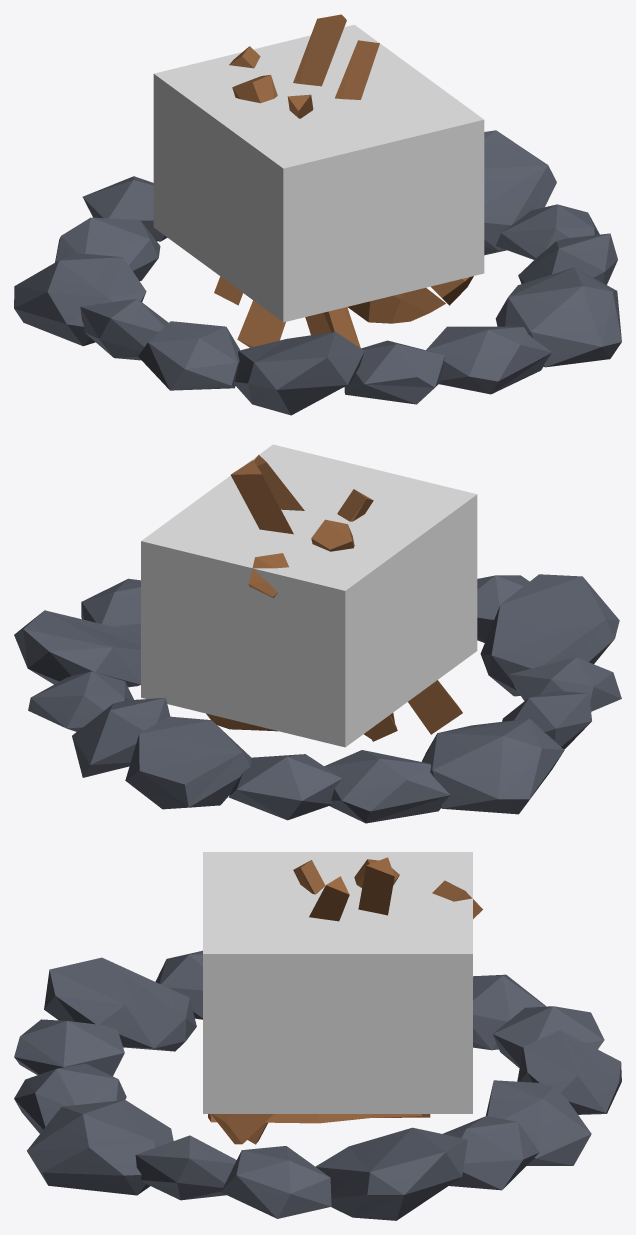
The model's file is bonfire.glb.
3 views of the same model, one above another, from view 1: azimuth 30°, elevation 25°; view 2: azimuth 150°, elevation 25°; view 3: azimuth 270°, elevation 25° (orthographic). The views are drawn at different scales.
Parts seen in each view (by area): view 1: Cube.009, Fire; view 2: Cube.009, Fire; view 3: Fire, Cube.009.
Boxes of the visible parts, x1,y1,x2,y2 form: Cube.009: (153, 24, 484, 322); Fire: (14, 14, 621, 415); Cube.009: (141, 444, 477, 747); Fire: (14, 455, 621, 823); Fire: (14, 857, 621, 1220); Cube.009: (203, 852, 472, 1113).
Size of the model in its own units: 1.6 by 0.8785 by 1.56.
1 material, 1 textured.
